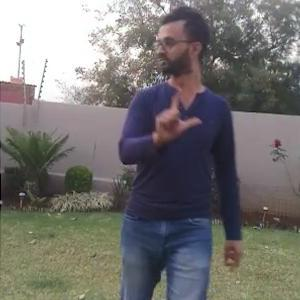land_hand: (147, 87, 203, 145)
